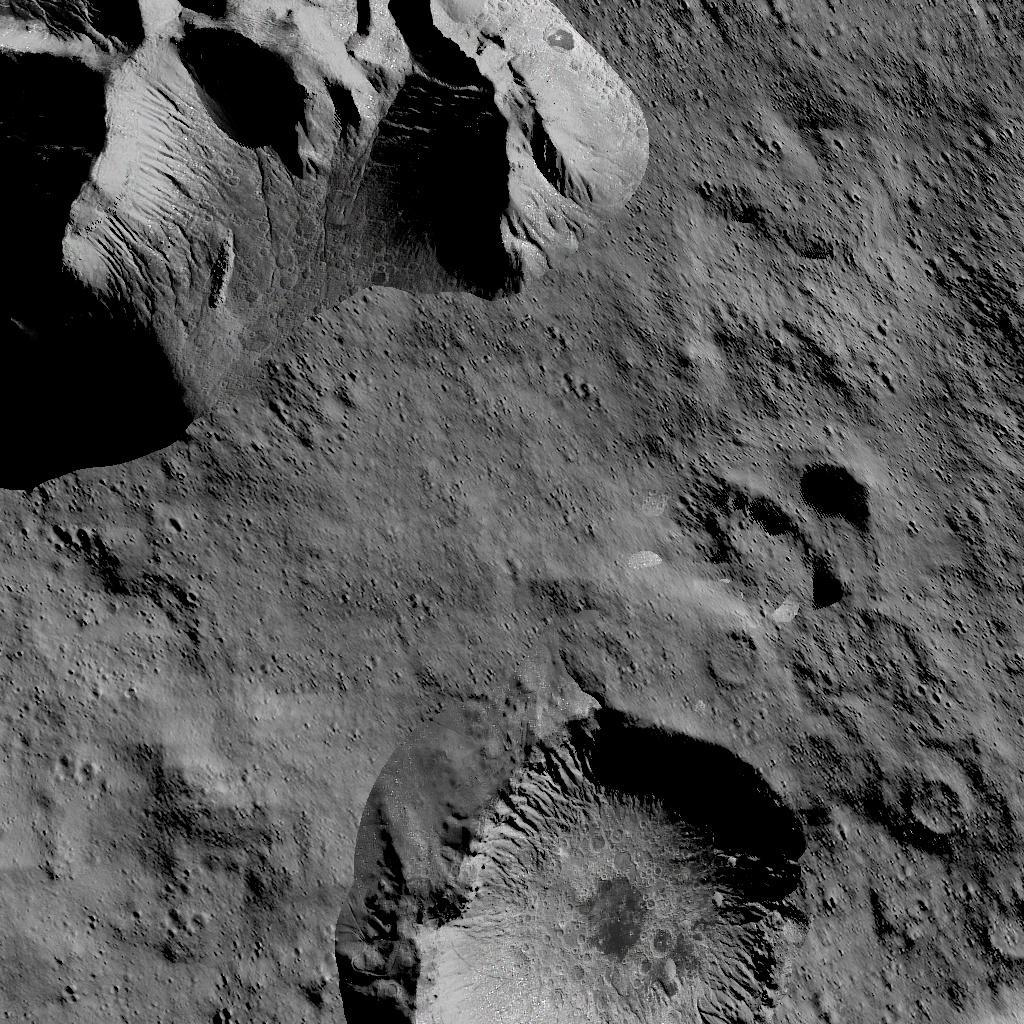Boulders: (0, 0, 644, 475)
Crater: (325, 702, 810, 1024), (696, 452, 882, 615), (896, 762, 968, 842), (957, 875, 1024, 959), (700, 629, 762, 692)
Plan surface: (669, 0, 1024, 441), (3, 484, 650, 690), (3, 696, 301, 1024)
